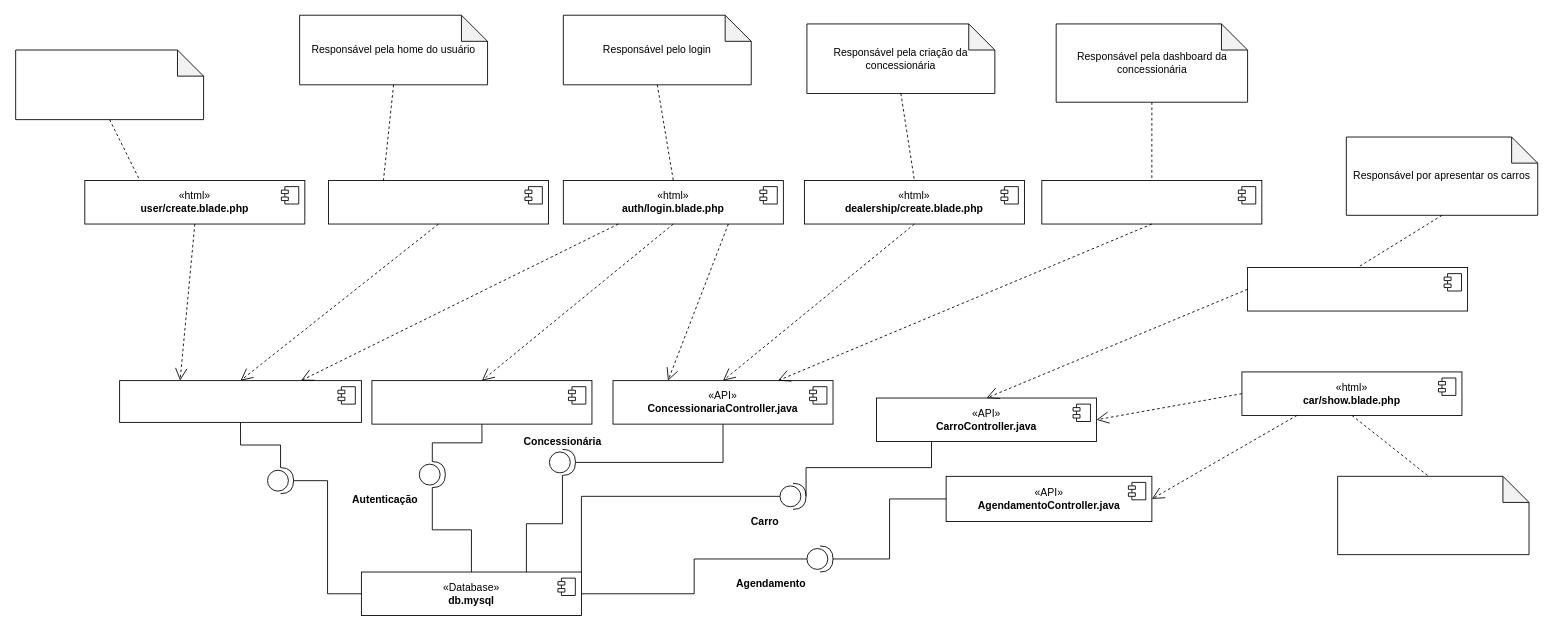
Image size: 1553x631. Some labels were removed from this diagram. The shapes that lost their labels are listed below. From the top down, each one's centre as x and y in pixels, then its label:
(109,84): Responsável pela criação do usuário
(438,202): «html» home/index.blade.php
(1151,202): «html» dashboard/index.blade.php
(1357,289): «html» car/index.blade.php
(240,401): «API» UsuarioController.java
(481,402): «API» AutenticacaoController.java
(280,480): Usuário
(1433,515): Responsável por apresentar cada carro específico e realizar o agendamento
